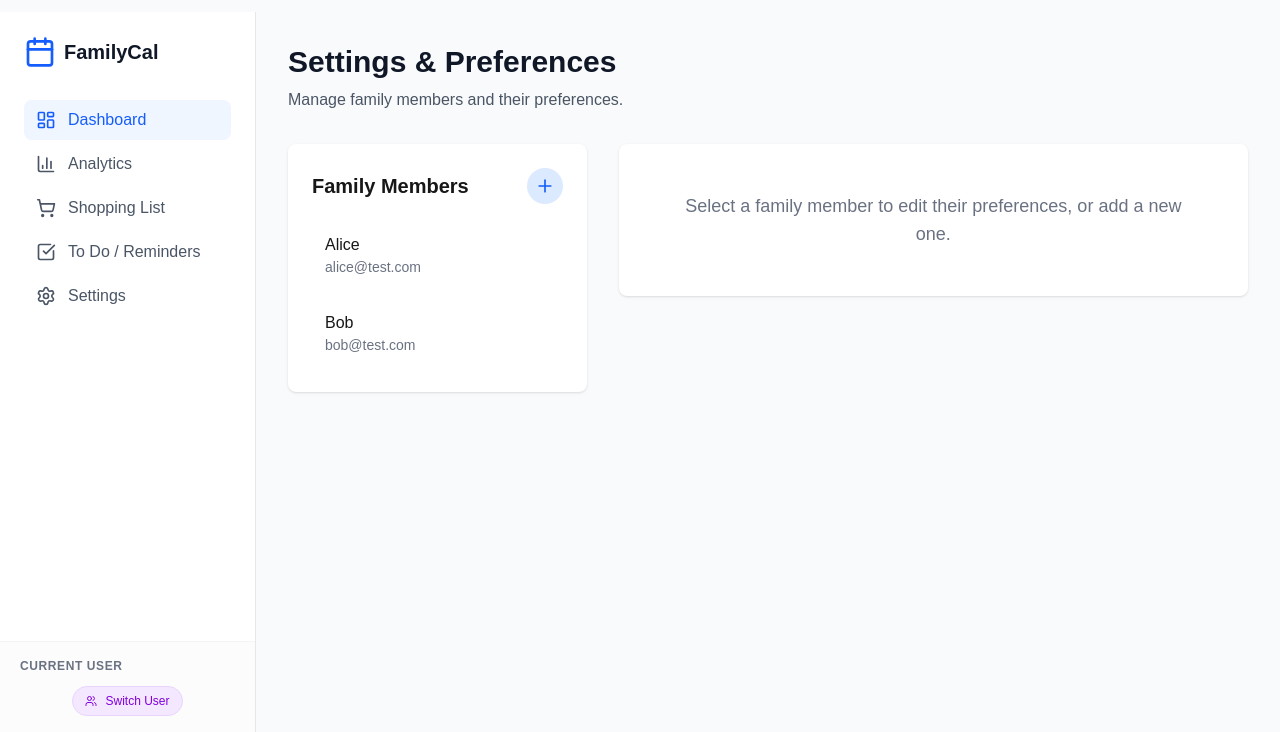
Scenario: SettingsPage › shows cancel button that closes edit form
Click the text "Alice": (342, 244) [325,236,360,253]
(page scrolled)
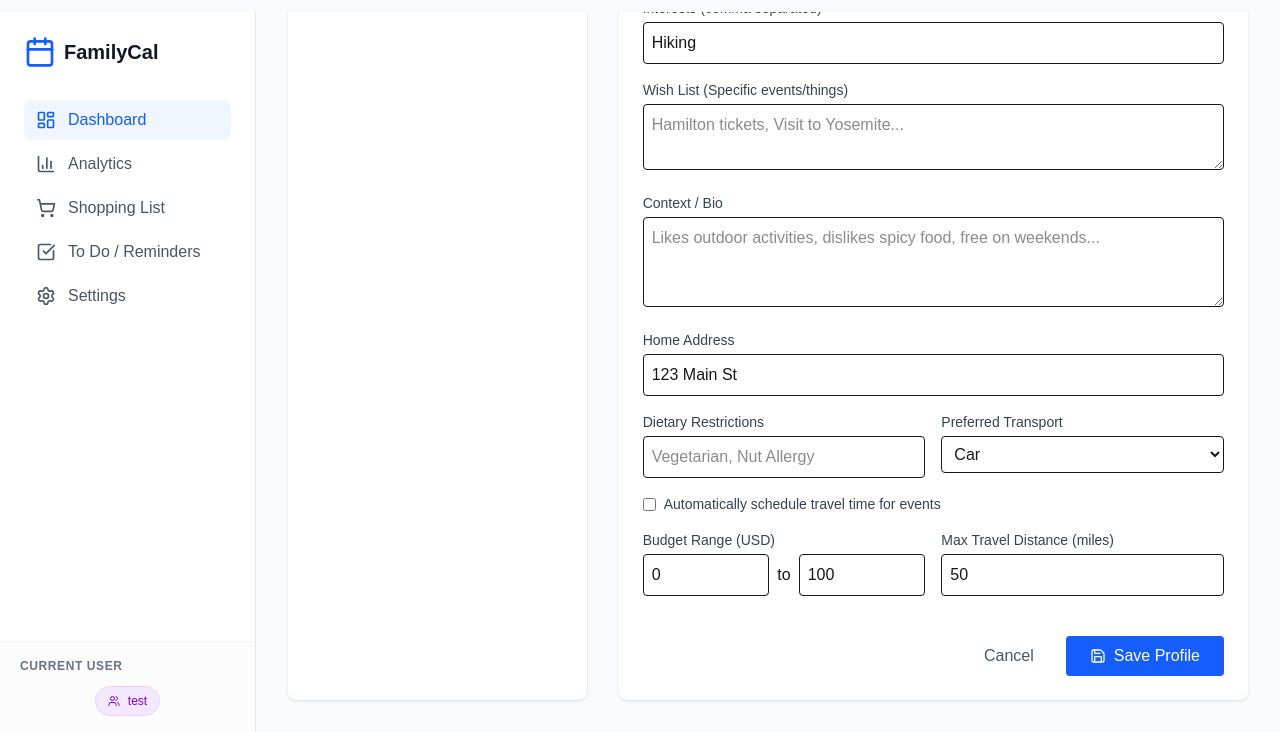
Expected: the button "Cancel" is shown
Click the button "Cancel": (1009, 656) [968,636,1050,676]
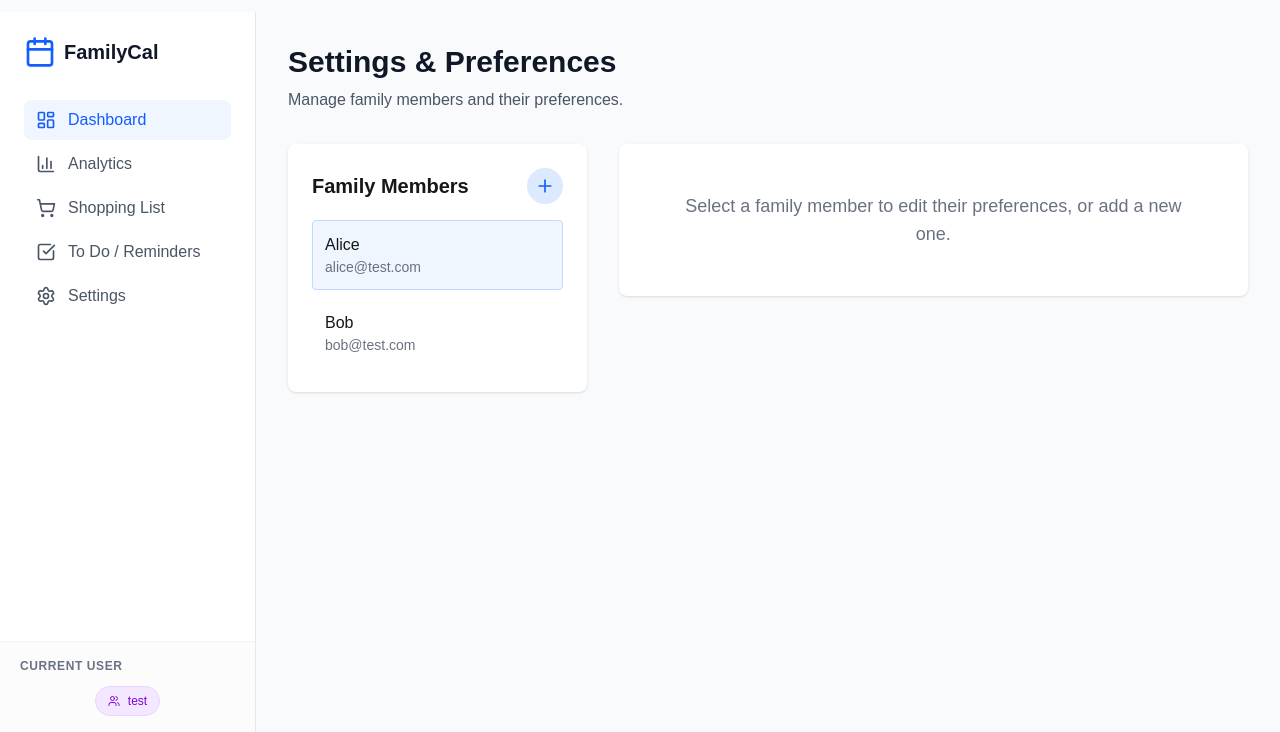
Expected: the text "Select a family member" is shown, [685,196,1182,244]
